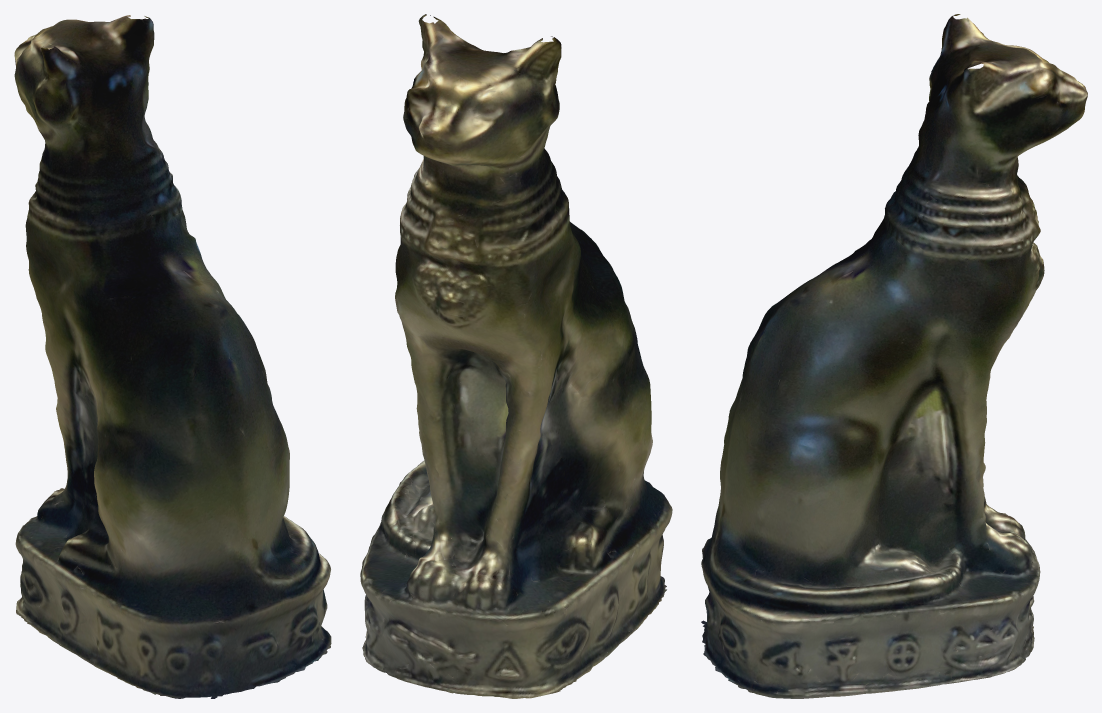
Rendered from egyptian_cat_figurine.glb.
The picture shows the model from 3 angles, left to right: view 1: azimuth 30°, elevation 25°; view 2: azimuth 150°, elevation 25°; view 3: azimuth 270°, elevation 25°; orthographic projection. The views are drawn at different scales.
Parts seen in each view (by area): view 1: Object_4; view 2: Object_4; view 3: Object_4.
Boxes of the visible parts, left/top/right/bottom form: Object_4: left=14, top=15, right=331, bottom=698; Object_4: left=360, top=14, right=672, bottom=698; Object_4: left=701, top=14, right=1087, bottom=698.
Bounding box in the file's own units: 0.0568 × 0.1413 × 0.0847.
Materials: 1 (1 with a texture image).
